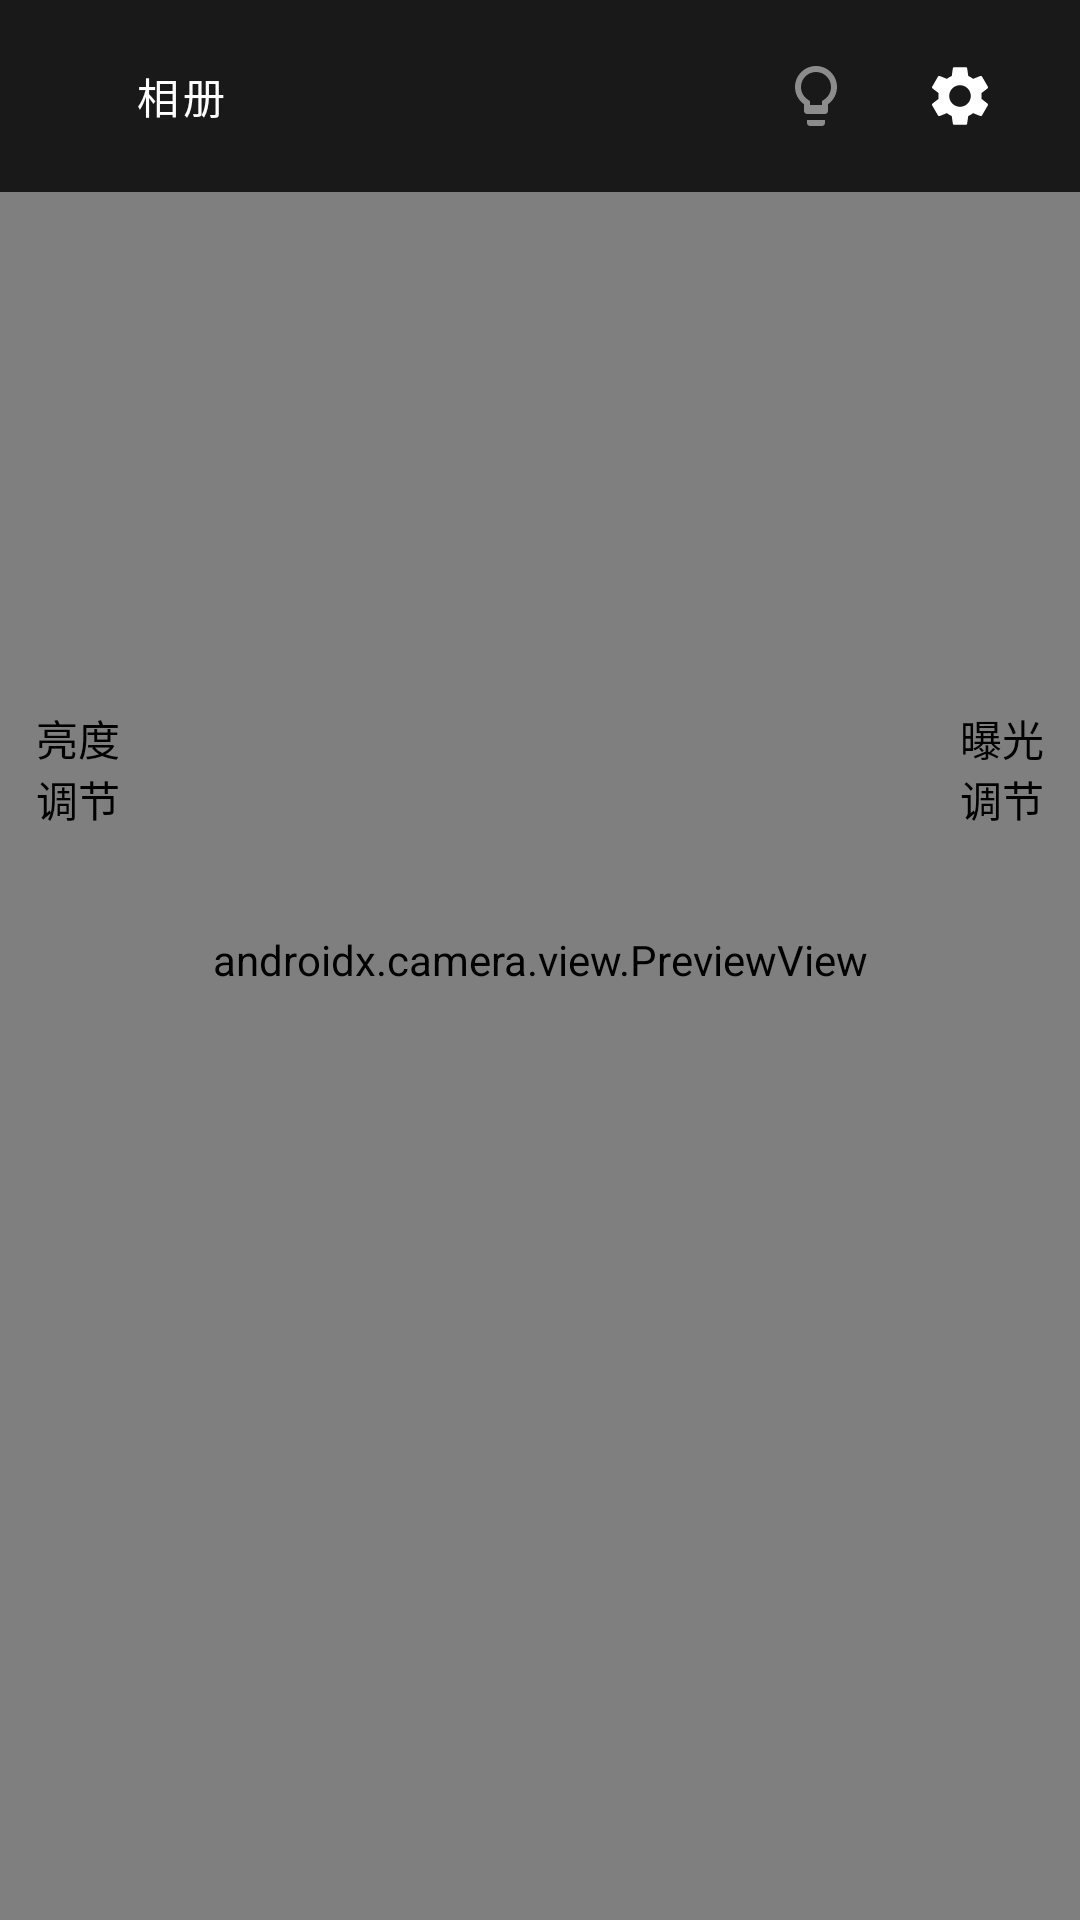

Locate icon controls on the screen. Image size 1080×1920, boxes as detection(x1, y1, x2, y2).
夜间补光: detection(795, 66, 837, 126)
设置: detection(932, 67, 988, 125)
